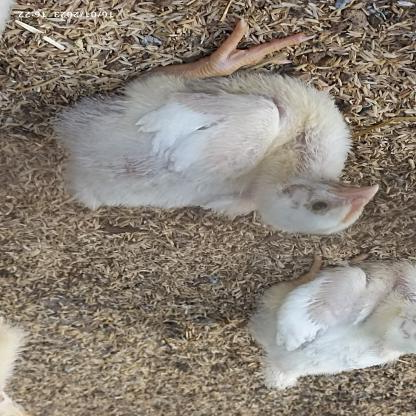Unhealthy: (27, 1, 391, 247)
